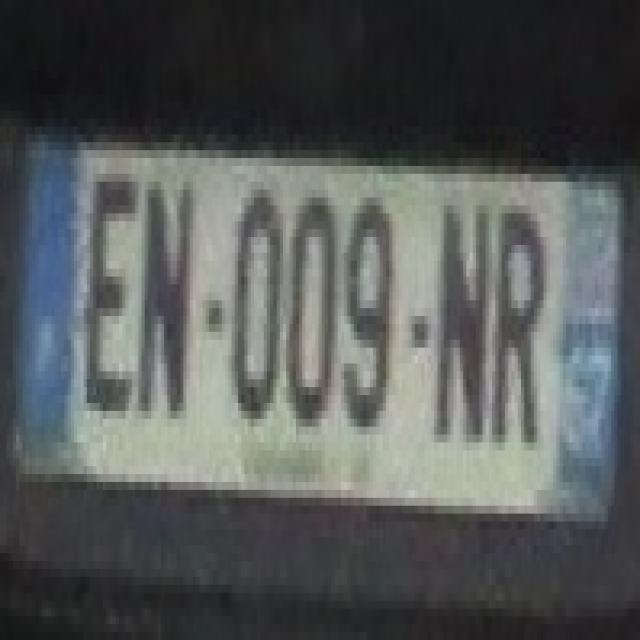Autre: (10, 138, 617, 499)
